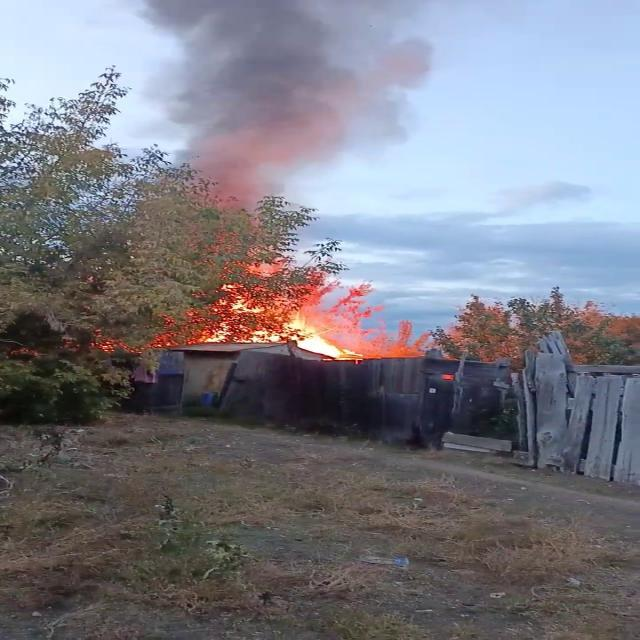Fire: (201, 258, 366, 358), (264, 310, 357, 360)
Smoke: (109, 0, 436, 224)
